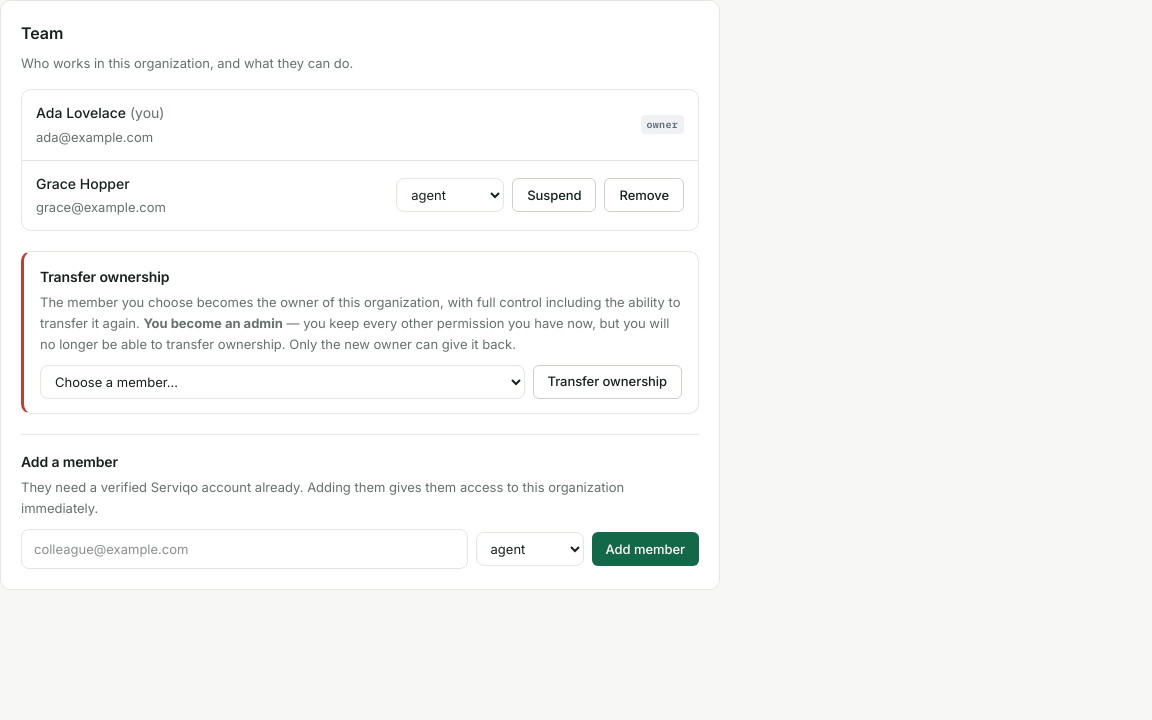
Test: TransferOwnership › confirmation › asks for confirmation and names the person, without sending anything
Expected: the text "Grace Hopper" is shown, [36, 175, 130, 192]
Select "Grace Hopper (agent)" in the dropdown named "new owner" below "You become an admin". click: (282, 382)
box: [40, 364, 524, 398]
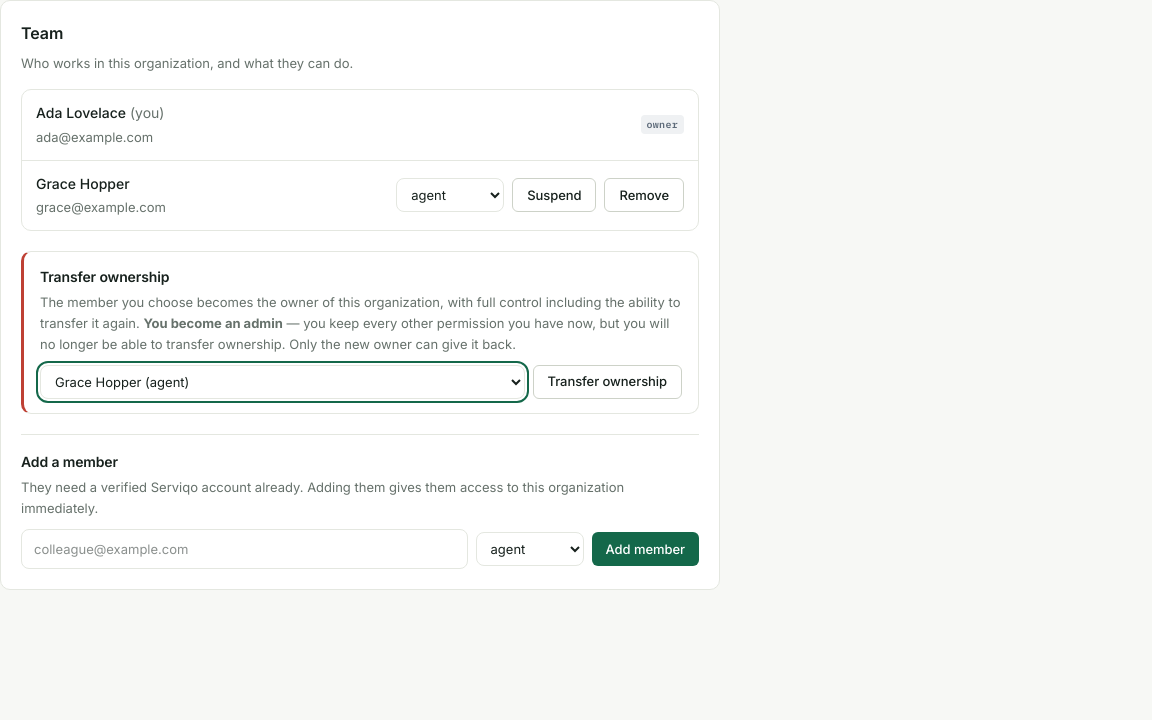
Click the button "Transfer ownership". click: (607, 382)
box: [532, 364, 682, 398]
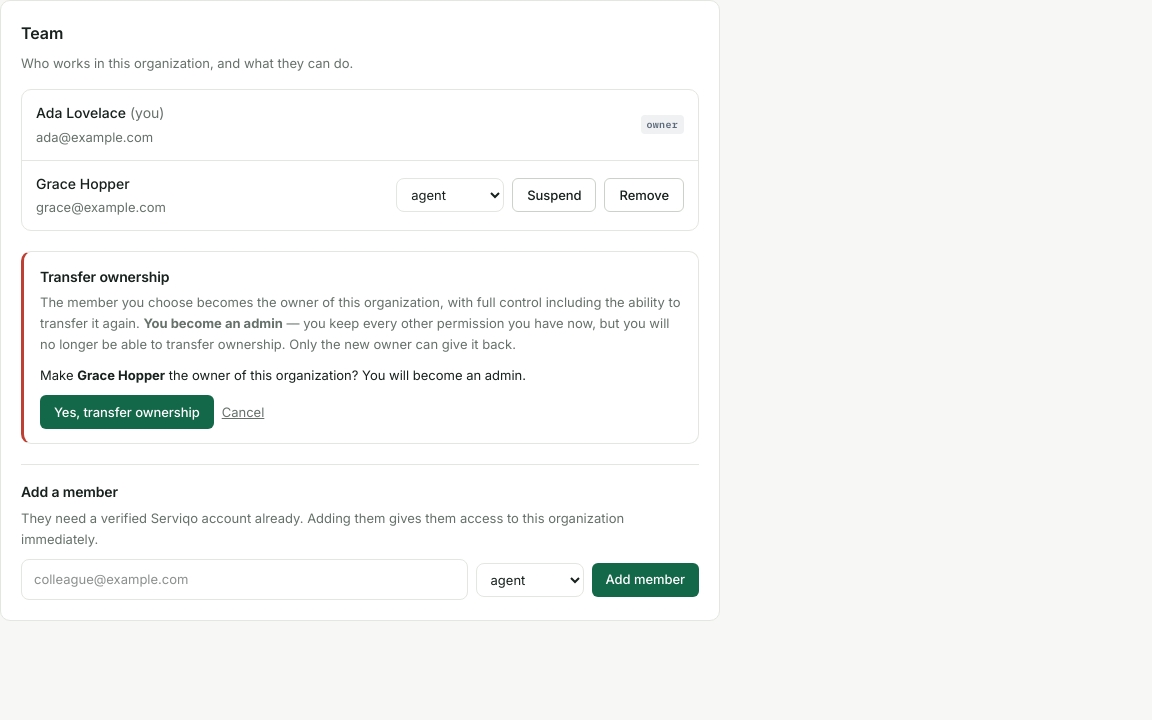
Result: the dialog named "confirm ownership transfer" shows "Grace Hopper" at [77, 366, 165, 382]
Result: the dialog named "confirm ownership transfer" shows "You will become an admin" at [165, 366, 526, 382]
